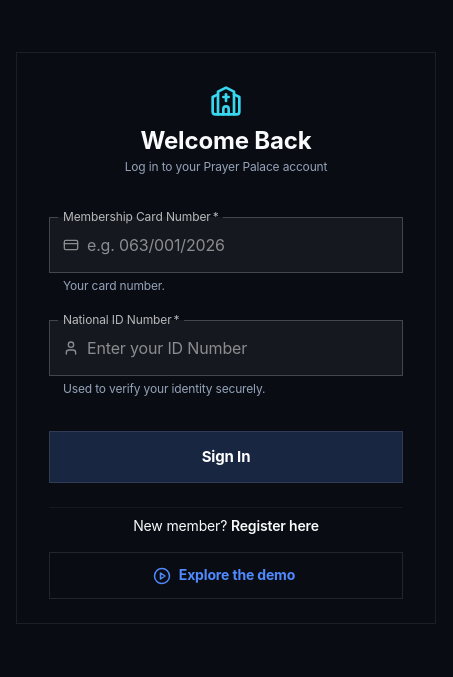
Scenario: Authentication and role routing › shows the server error when credentials are rejected
The width and height of the screenshot is (453, 677).
In the field labelled "Membership Card Number *": [245, 245] box [87,217,403,273], type "999/001/2026"
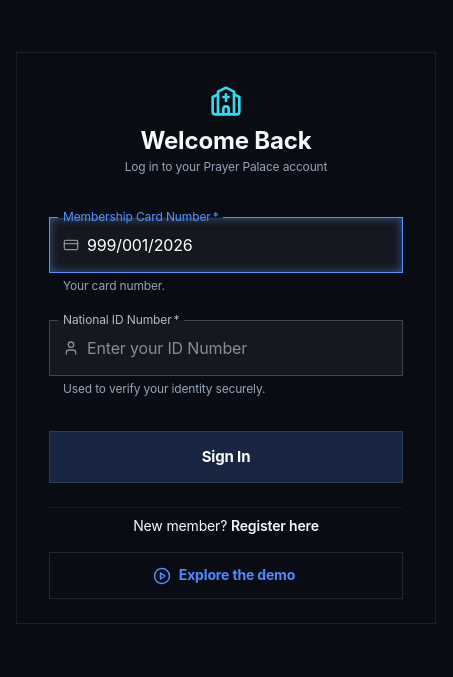
In the password field labelled "National ID Number *": [245, 348] box [87,320,403,376], type "00000000"
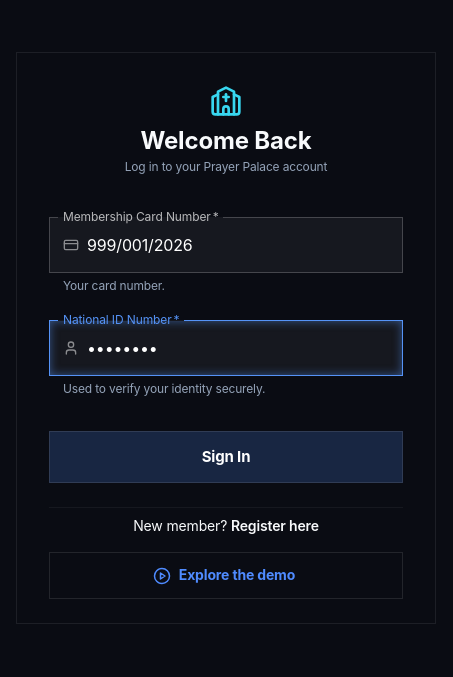
Click the button "Sign In": [226, 457] box [49,431,403,483]
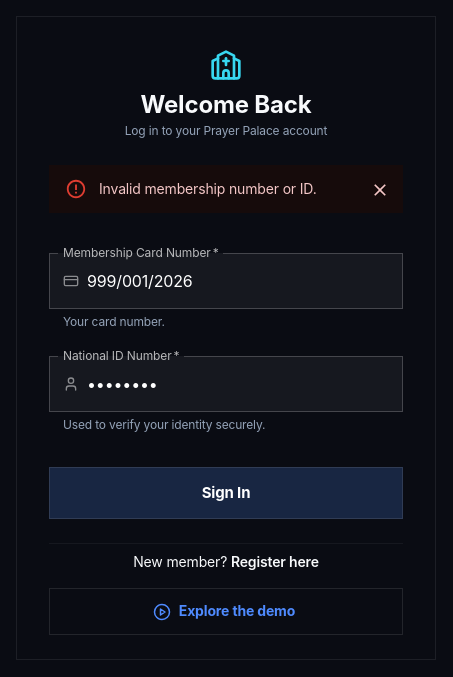
Result: the text "Invalid membership number or ID." is shown at [99,180,317,197]
